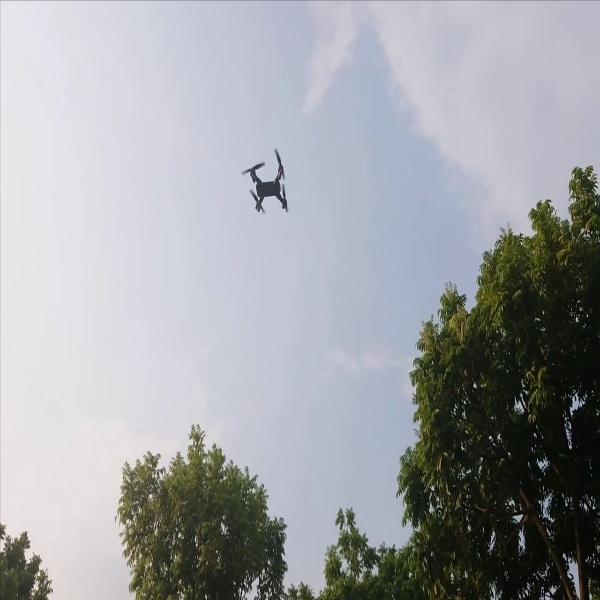drone: (235, 140, 307, 224)
